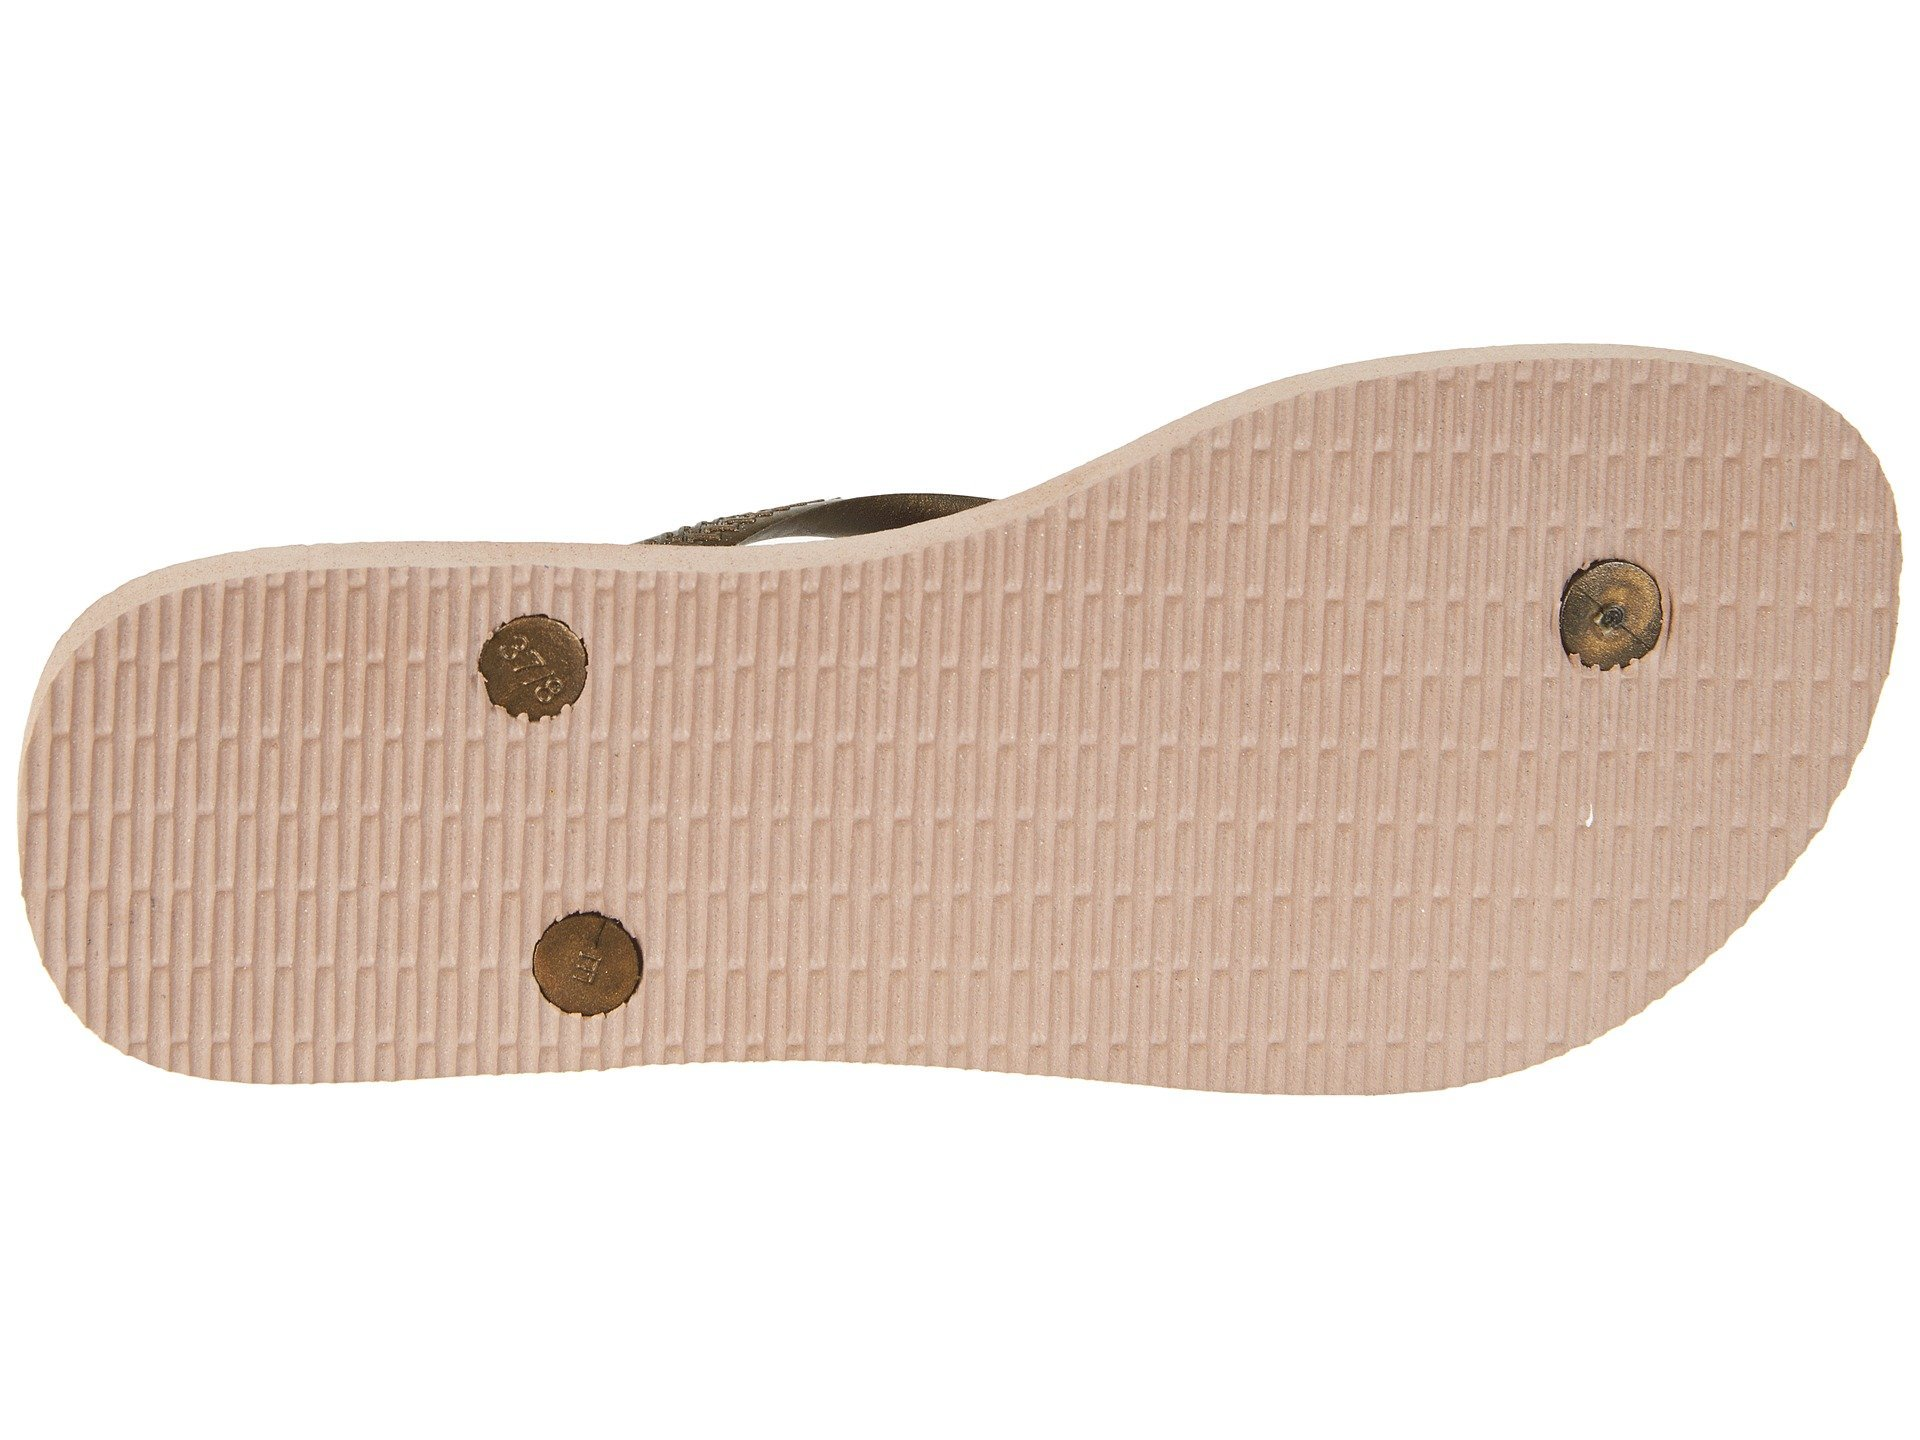quad: (825, 569, 1203, 951)
